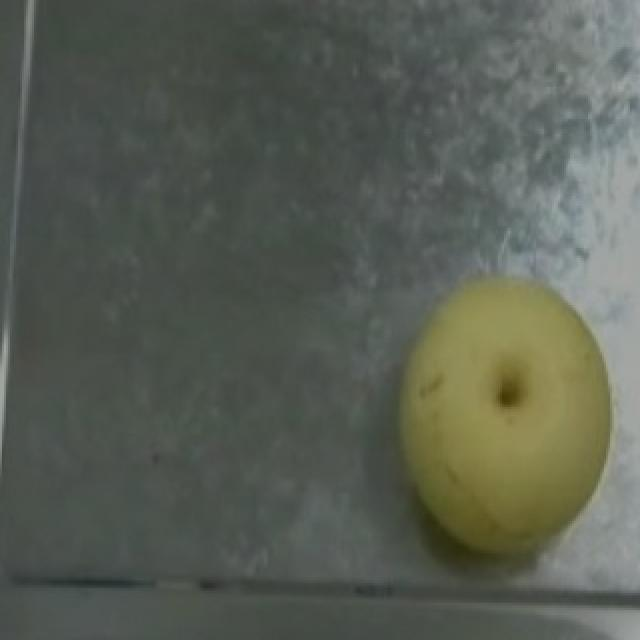Fruit: (368, 248, 632, 566)
